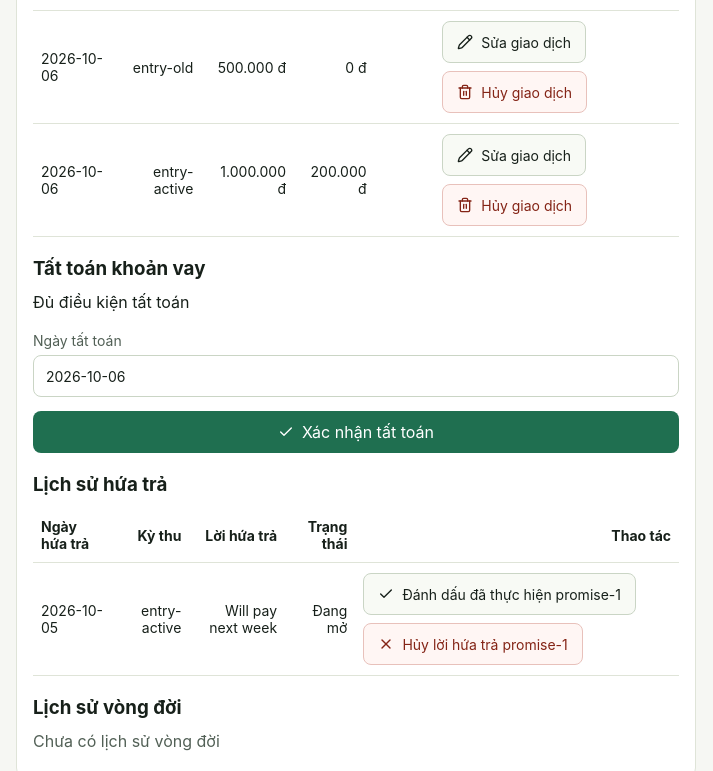
it: LoanDetail › rejects a malformed settlement date with a Vietnamese validation error
The width and height of the screenshot is (713, 771).
(page scrolled)
Replace the text in the field labelled "Ngày tất toán" with "2026-02-30": (356, 376) x1=33 y1=355 x2=679 y2=397
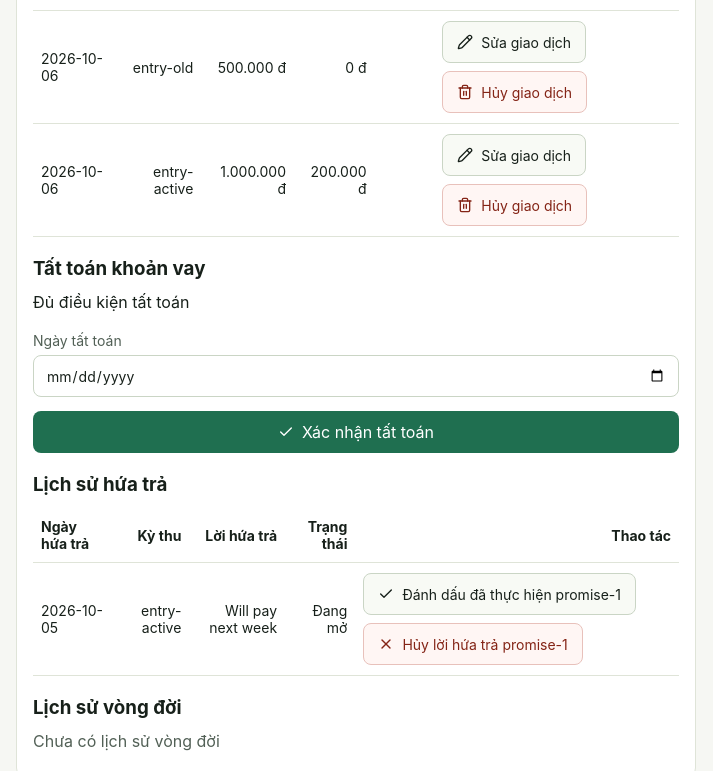
Click the button "Xác nhận tất toán": (356, 432) x1=33 y1=411 x2=679 y2=453
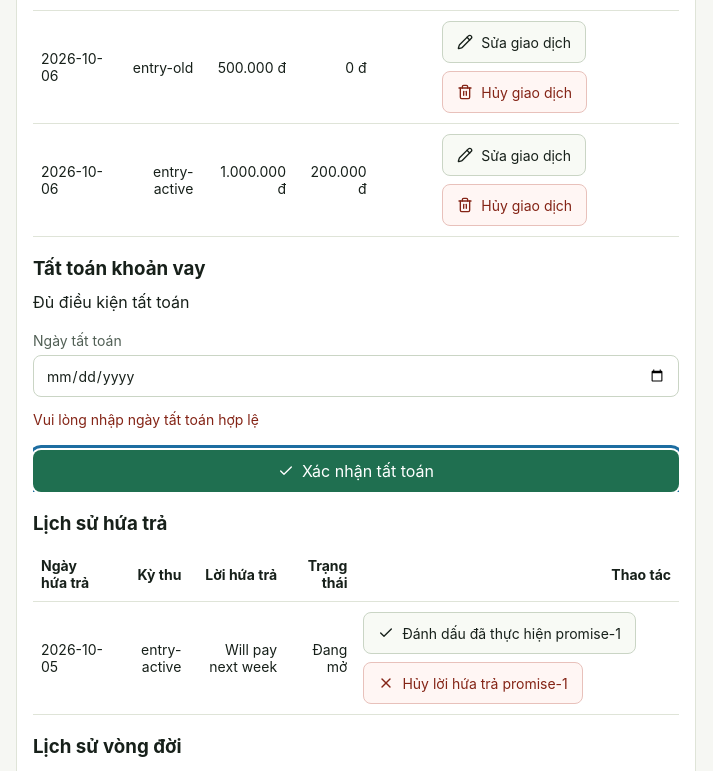
Check: the message reads "Vui lòng nhập ngày tất toán hợp lệ", box x1=33 y1=411 x2=259 y2=428
